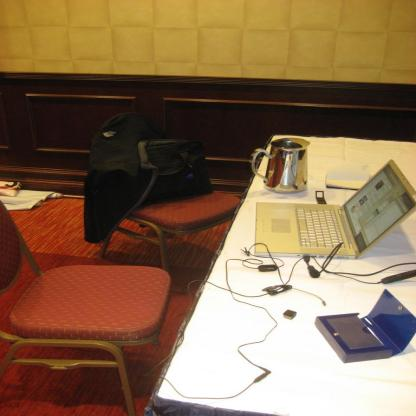board: (257, 159, 416, 260), (321, 287, 405, 366)
